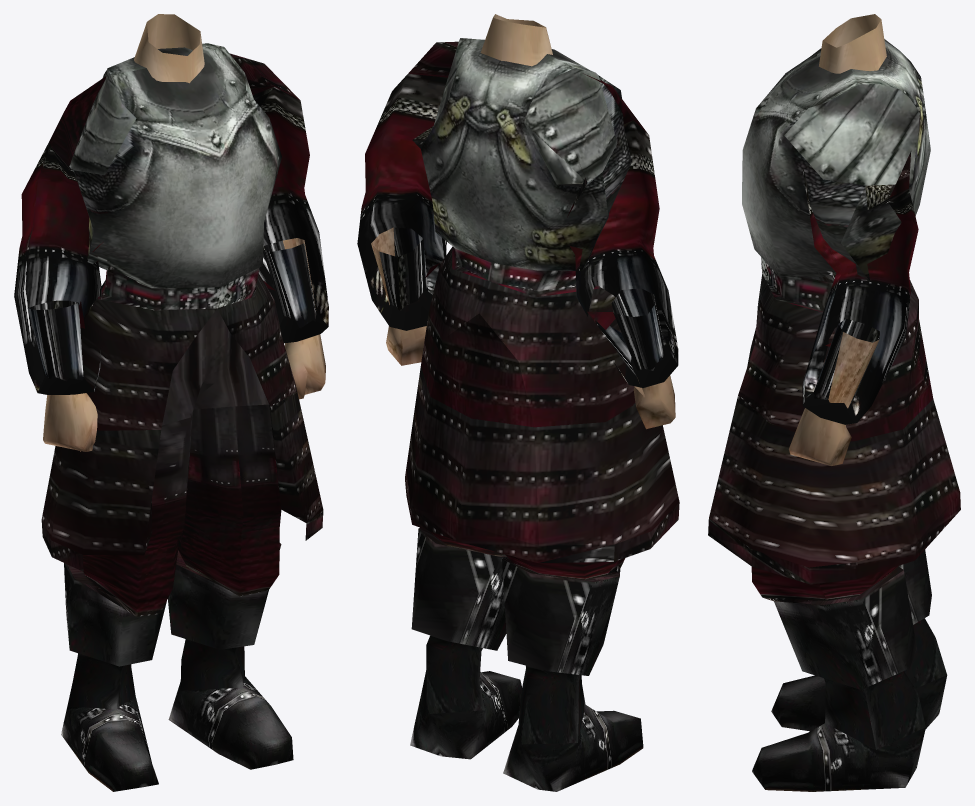
The model's file is DRAGOMIR.glb.
3 renders of one model, left to right at view 1: azimuth 30°, elevation 25°; view 2: azimuth 150°, elevation 25°; view 3: azimuth 270°, elevation 25°, orthographic. The views are drawn at different scales.
Visible parts, largest first — view 1: DRAGOMIR; view 2: DRAGOMIR; view 3: DRAGOMIR.
Boxes of the visible parts, x1=… form: DRAGOMIR: x1=14, y1=14, x2=328, y2=791; DRAGOMIR: x1=357, y1=14, x2=679, y2=791; DRAGOMIR: x1=708, y1=14, x2=960, y2=791.
Size of the model in its own units: 0.6986 by 1.68 by 0.5252.
Materials: 3 (3 with a texture image).
